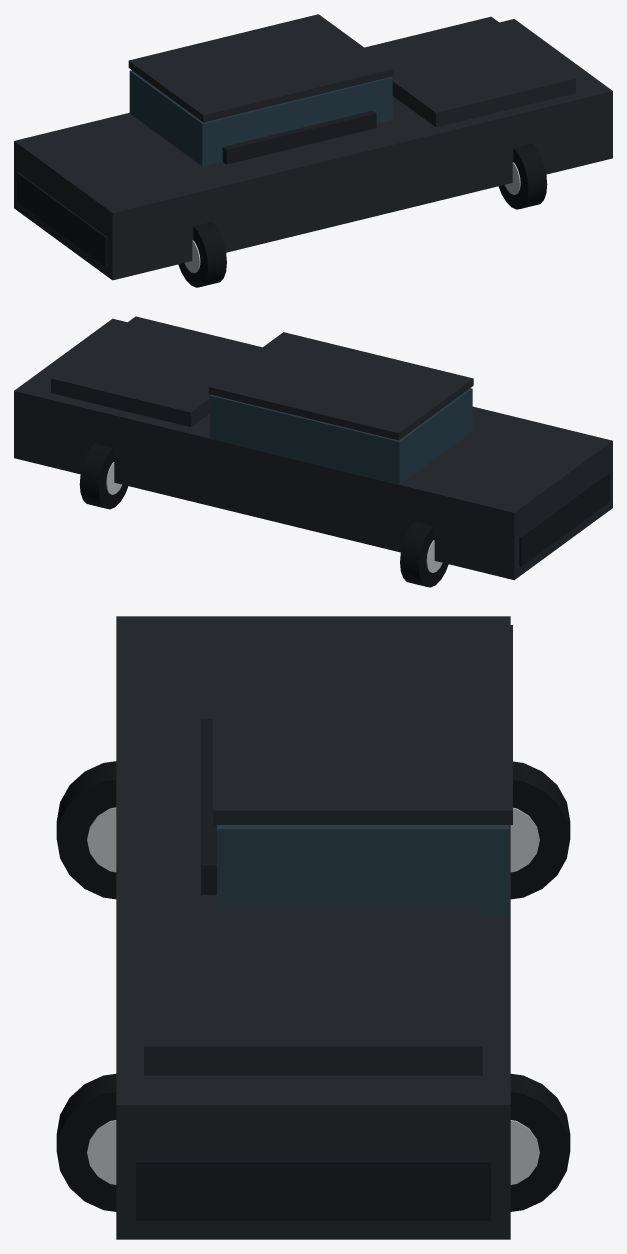
Rendered from rr_phantom_vii.glb.
3 renders of one model, top to bottom at view 1: azimuth 30°, elevation 25°; view 2: azimuth 150°, elevation 25°; view 3: azimuth 270°, elevation 25°, orthographic. The views are drawn at different scales.
Parts seen in each view (by area): view 1: body, roof, hood, cabin, interior, rear_bumper, front_right_wheel, rear_right_wheel; view 2: body, roof, hood, cabin, rear_bumper, rear_left_wheel, front_left_wheel; view 3: body, roof, hood, cabin, front_bumper, rear_right_wheel, front_left_wheel, front_right_wheel, rear_left_wheel, interior.
Part boxes in pixels (left/top/right/bottom): body: left=14, top=19, right=612, bottom=280; roof: left=128, top=14, right=393, bottom=122; hood: left=364, top=16, right=575, bottom=127; cabin: left=129, top=70, right=392, bottom=166; interior: left=222, top=110, right=376, bottom=164; rear_bumper: left=17, top=172, right=107, bottom=266; front_right_wheel: left=498, top=144, right=547, bottom=209; rear_right_wheel: left=178, top=222, right=226, bottom=287; body: left=14, top=318, right=612, bottom=580; roof: left=208, top=332, right=473, bottom=440; hood: left=51, top=316, right=261, bottom=426; cabin: left=209, top=388, right=472, bottom=484; rear_bumper: left=519, top=472, right=609, bottom=566; rear_left_wheel: left=400, top=521, right=448, bottom=587; front_left_wheel: left=79, top=443, right=128, bottom=509; body: left=116, top=616, right=510, bottom=1239; roof: left=213, top=625, right=512, bottom=824; hood: left=144, top=909, right=482, bottom=1075; cabin: left=217, top=825, right=508, bottom=914; front_bumper: left=136, top=1160, right=490, bottom=1220; rear_right_wheel: left=56, top=761, right=116, bottom=899; front_left_wheel: left=510, top=1073, right=570, bottom=1211; front_right_wheel: left=56, top=1073, right=116, bottom=1211; rear_left_wheel: left=510, top=761, right=570, bottom=899; interior: left=201, top=719, right=216, bottom=894.
Bounding box in the file's own units: 5.87 × 1.62 × 2.59.
